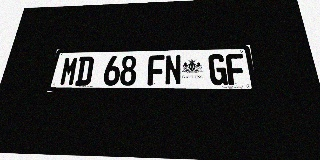6: (103, 56, 121, 86)
8: (119, 55, 137, 86)
D: (75, 56, 94, 86)
F: (225, 54, 247, 85), (147, 55, 164, 85)
G: (208, 54, 228, 85)
M: (59, 57, 79, 86)
N: (165, 55, 181, 85)
